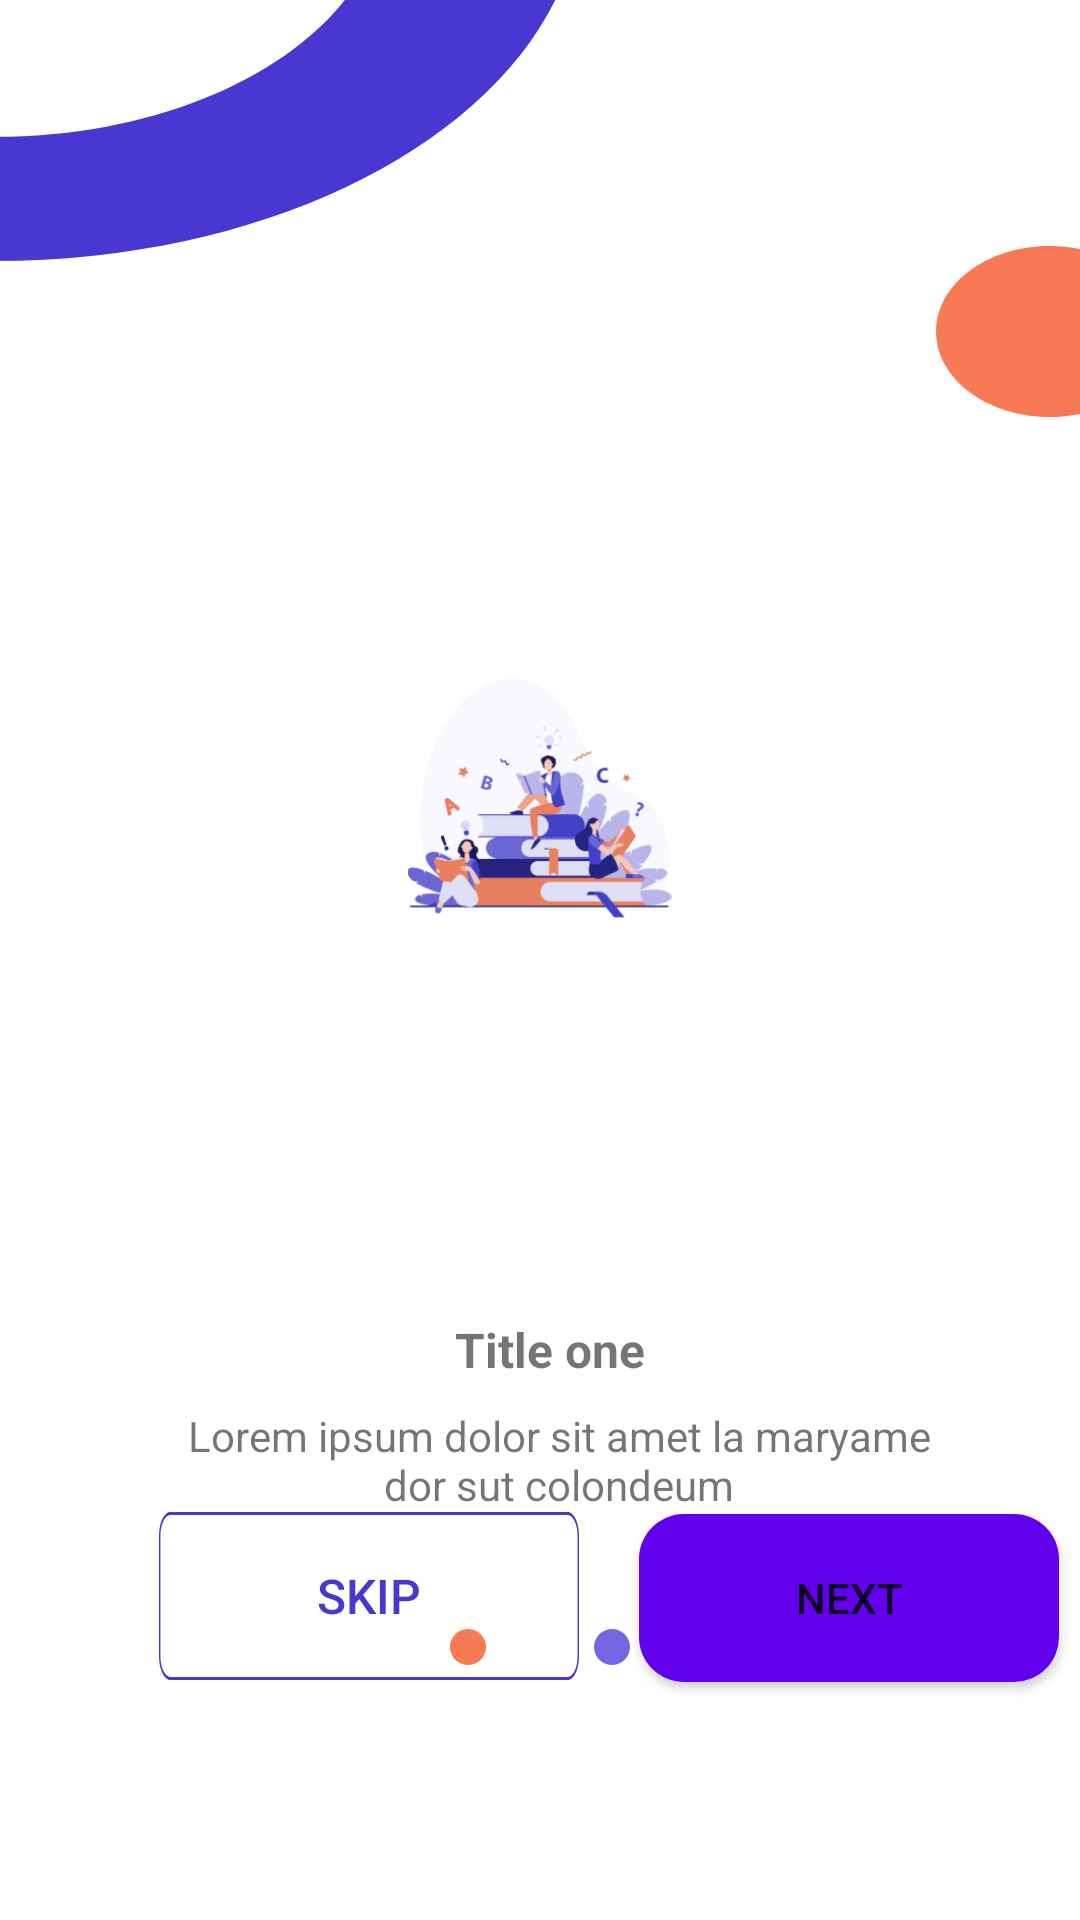

Screen size 1080px×1920px. Icon name, then its box in pixels as (x1, y1, x2, y2):
illustration: (408, 727, 672, 918)
